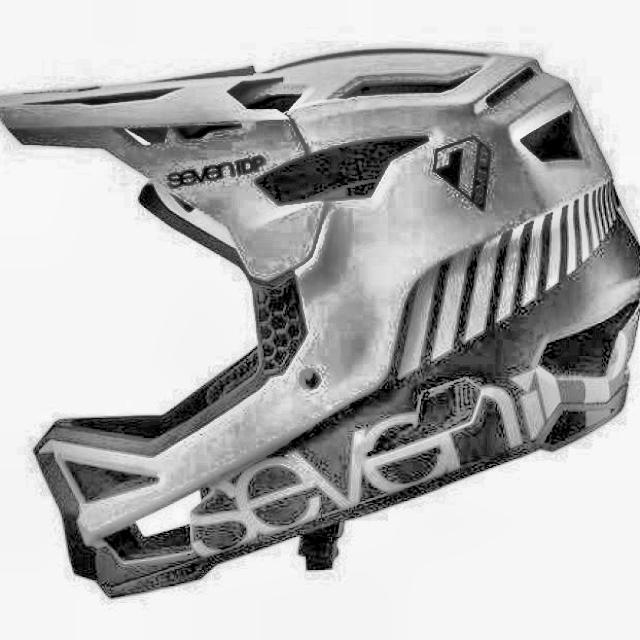Helmet: (0, 36, 640, 607)
